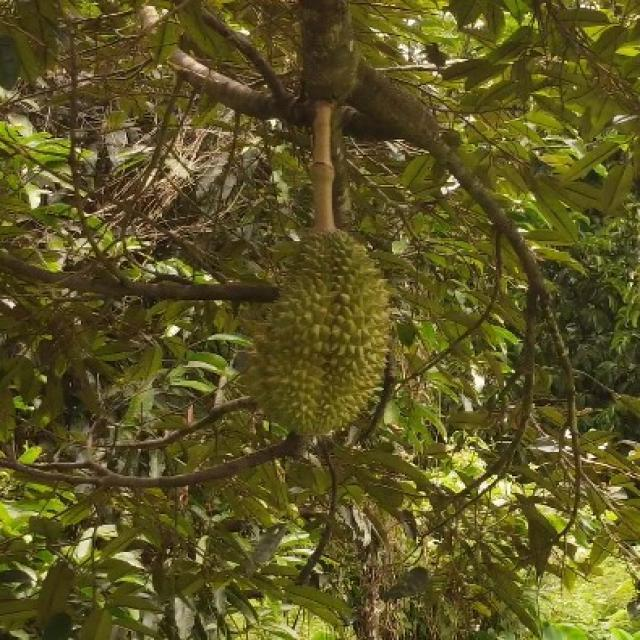immature: (243, 227, 393, 441)
